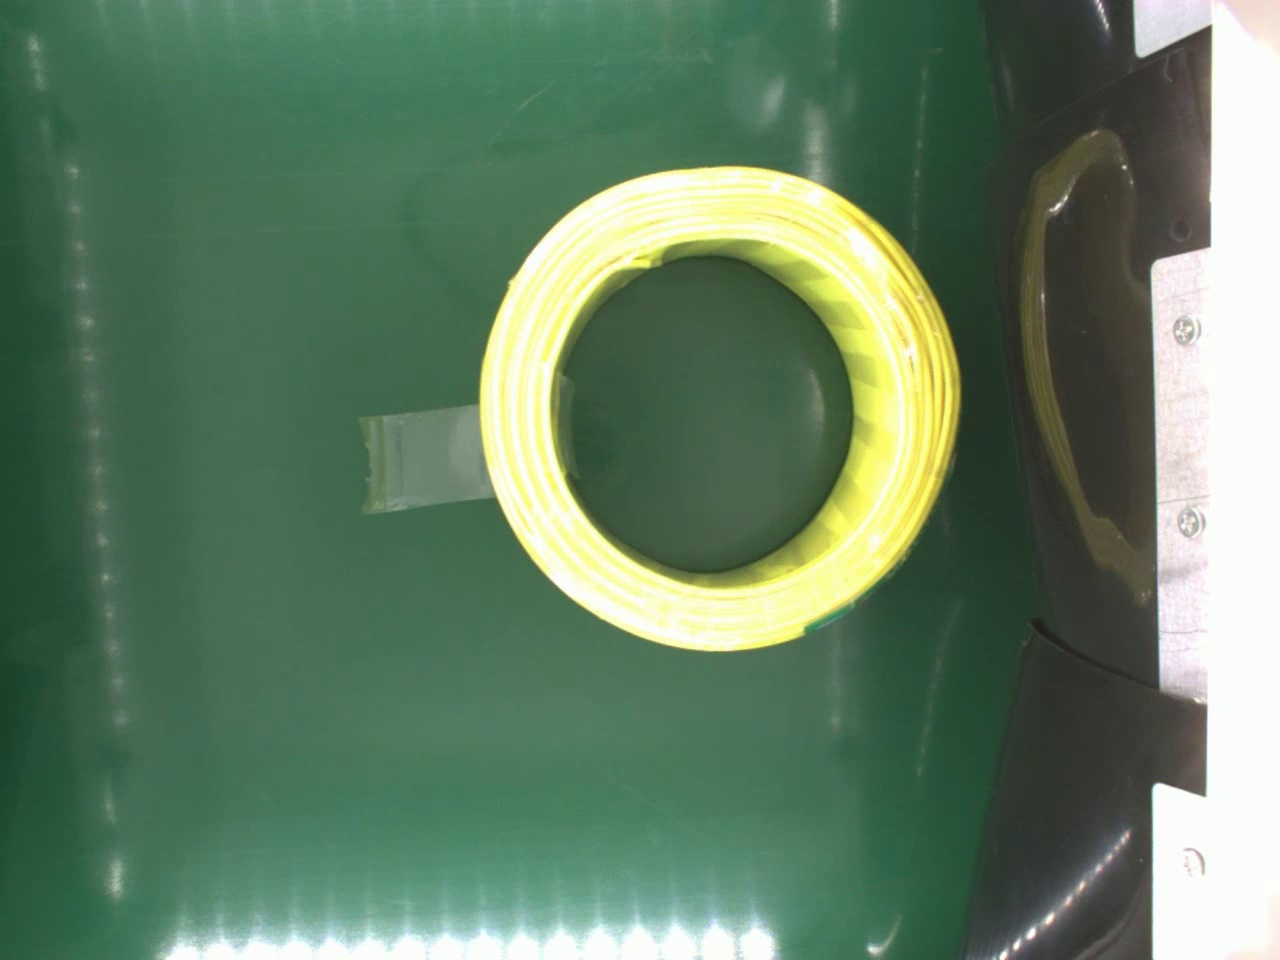yellow: (470, 158, 965, 658)
